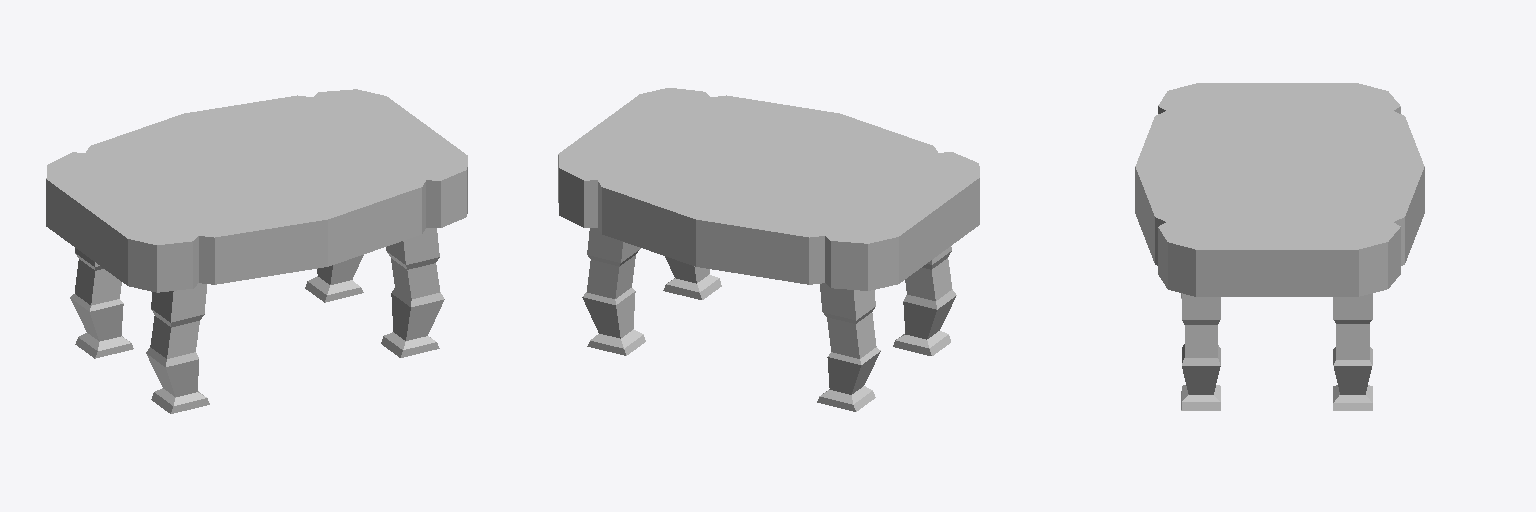
File: Table1.obj
3 views of the same model, side by side, from view 1: azimuth 30°, elevation 25°; view 2: azimuth 150°, elevation 25°; view 3: azimuth 270°, elevation 25° (orthographic).
Visible parts, largest first — view 1: Cube; view 2: Cube; view 3: Cube.
Part boxes in pixels (x1,y1,x2,y2): Cube: (46,89,467,413); Cube: (558,88,979,411); Cube: (1135,83,1424,410).
Size of the model in its own units: 2 by 1 by 1.47.